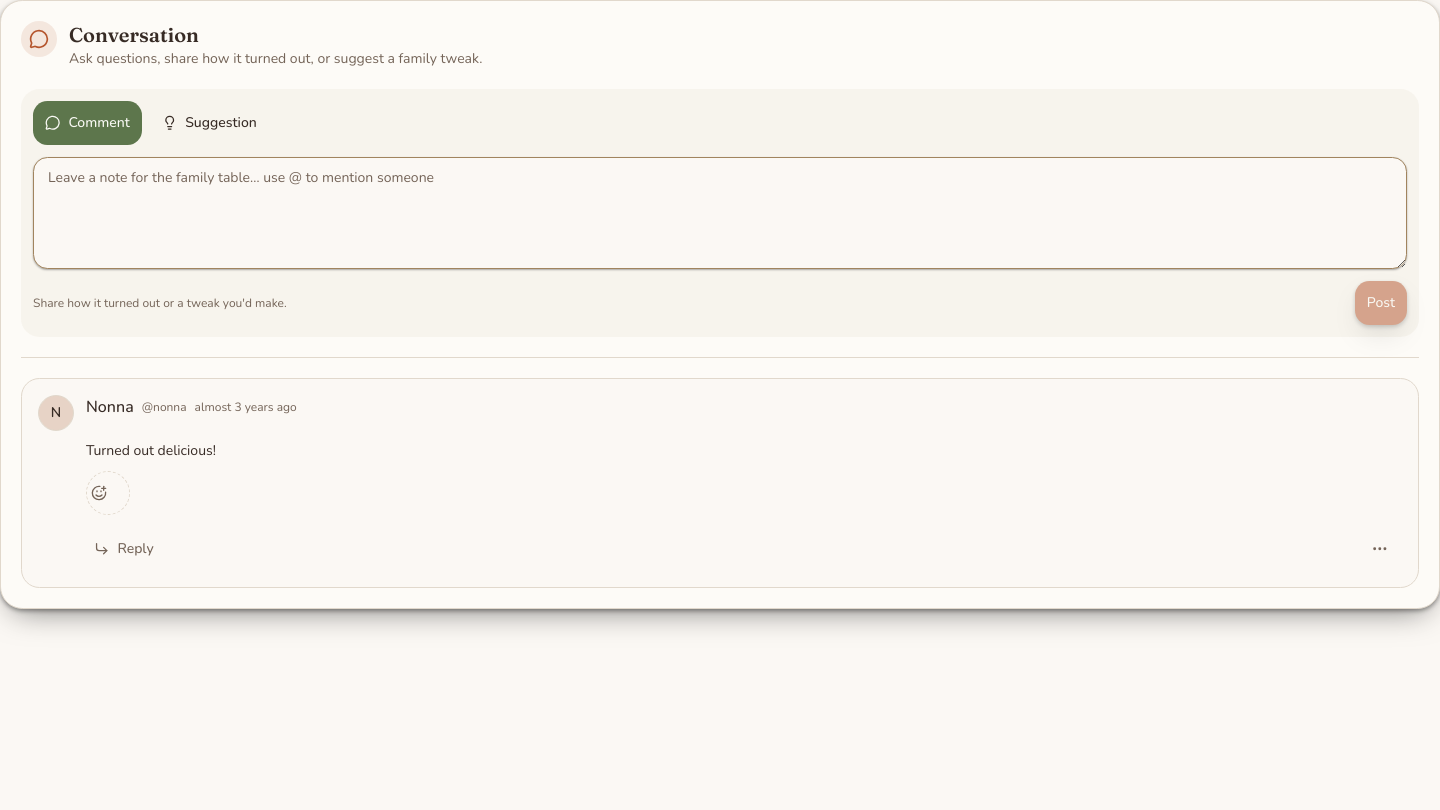
Test: CommentsSection › hides the delete affordance from other members
Other members still get the overflow menu (Report/Block), but no Delete.
Click the button named "More actions": (1380, 549) [1358, 527, 1402, 571]
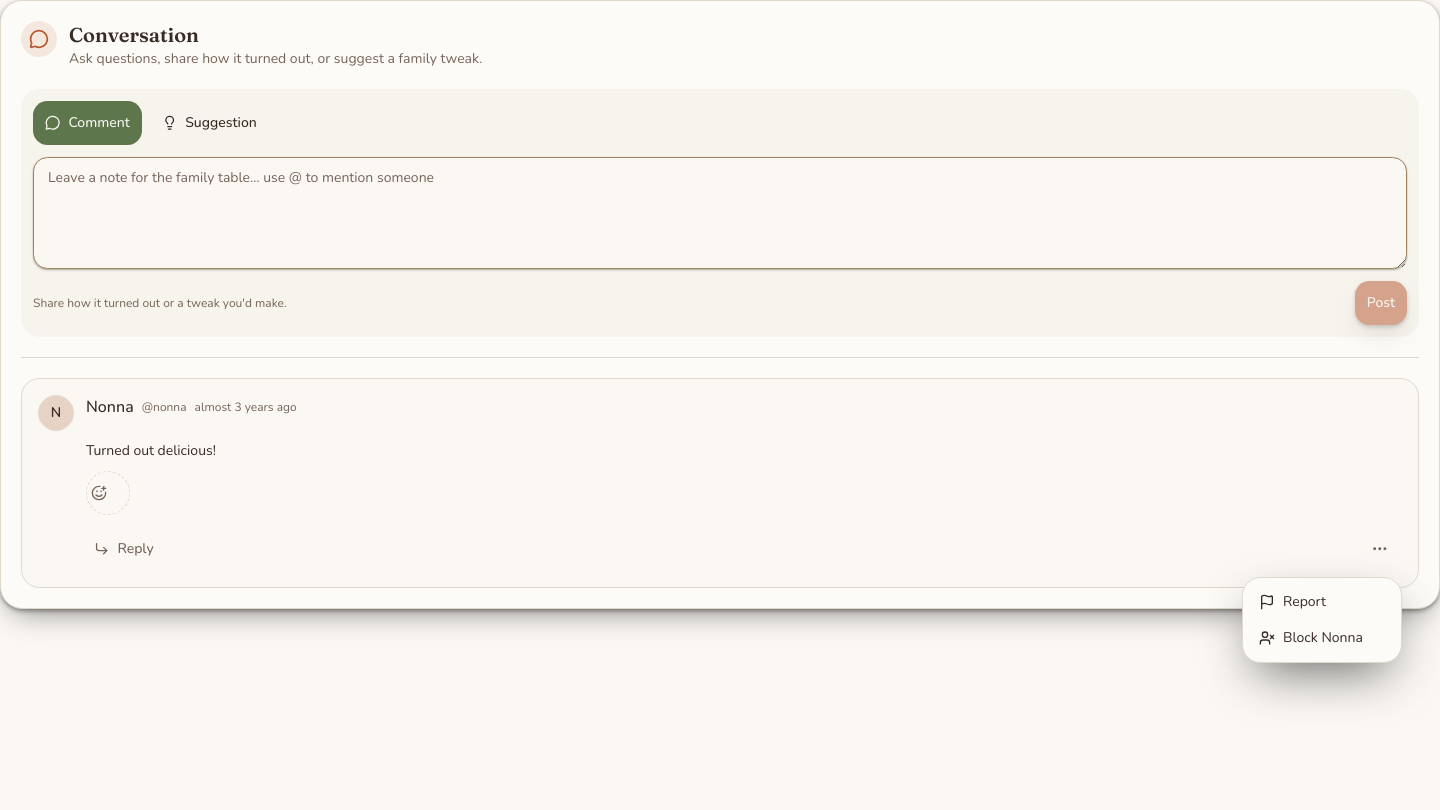
Expected: the menu item "Report" is shown, [1259, 592, 1326, 611]
